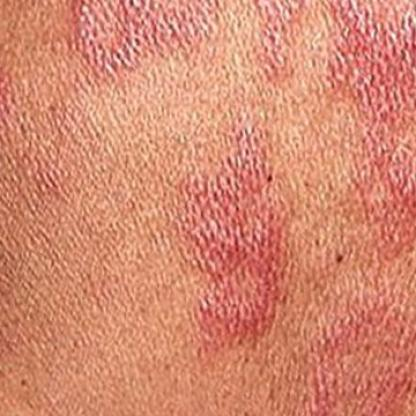Leprosy: (172, 107, 298, 340), (321, 0, 415, 213), (62, 0, 226, 73), (245, 0, 310, 81)
